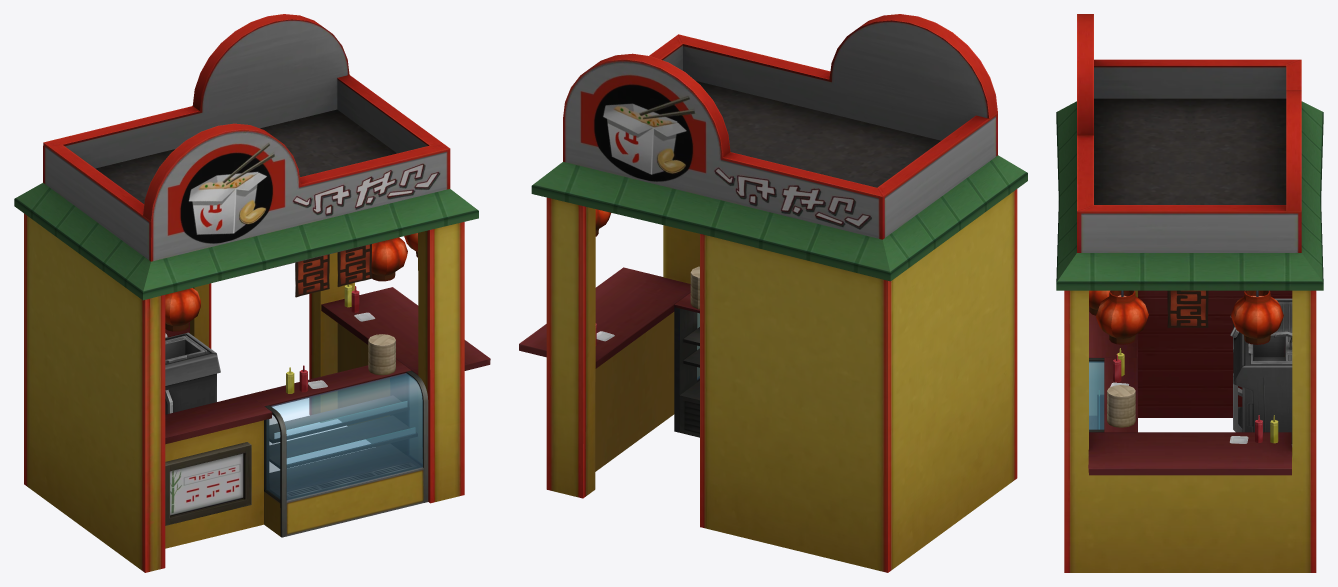
File: ramen_stall.glb
3 renders of one model, left to right at view 1: azimuth 30°, elevation 25°; view 2: azimuth 150°, elevation 25°; view 3: azimuth 270°, elevation 25°, orthographic. The views are drawn at different scales.
Parts seen in each view (by area): view 1: realscale; view 2: realscale; view 3: realscale.
Part boxes in pixels (left/top/right/bottom): realscale: left=14, top=14, right=490, bottom=572; realscale: left=519, top=14, right=1027, bottom=572; realscale: left=1056, top=14, right=1323, bottom=572.
Bounding box in the file's own units: 2.1 × 2.3 × 1.29.
Materials: 4 (4 with a texture image).
